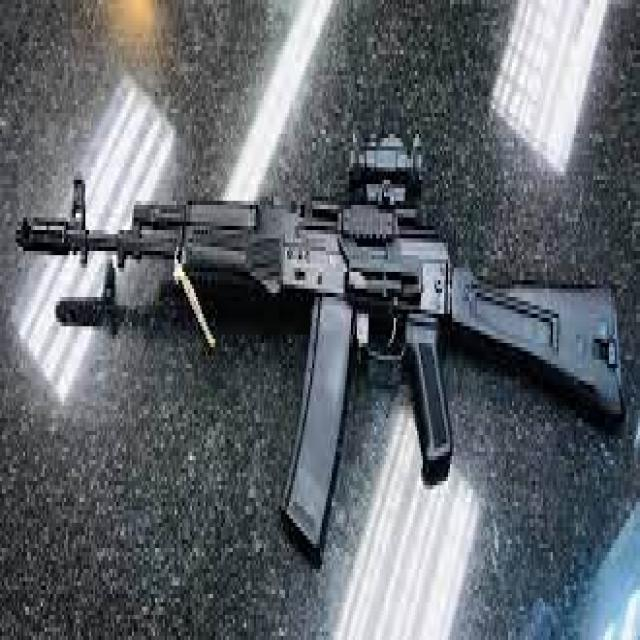weapon: (14, 124, 626, 574)
